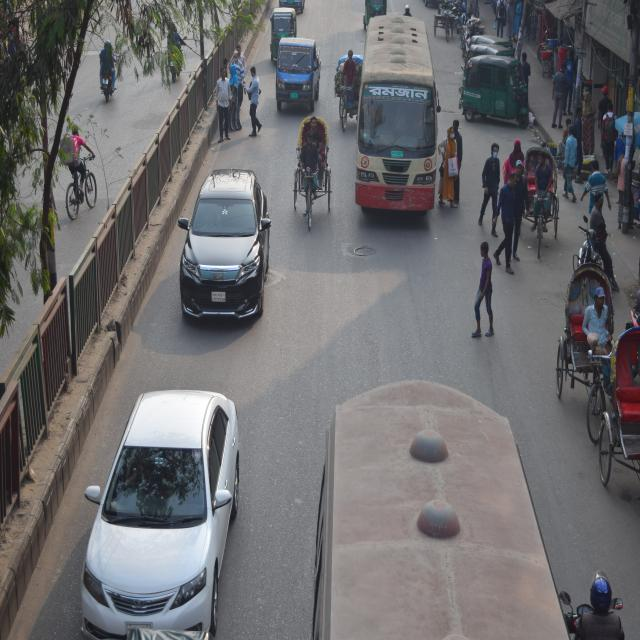bus: (311, 357, 575, 640), (358, 3, 456, 240)
car: (76, 379, 245, 639), (172, 160, 292, 340)
motorbike: (94, 53, 121, 97)
pickup-van: (259, 36, 328, 110)
